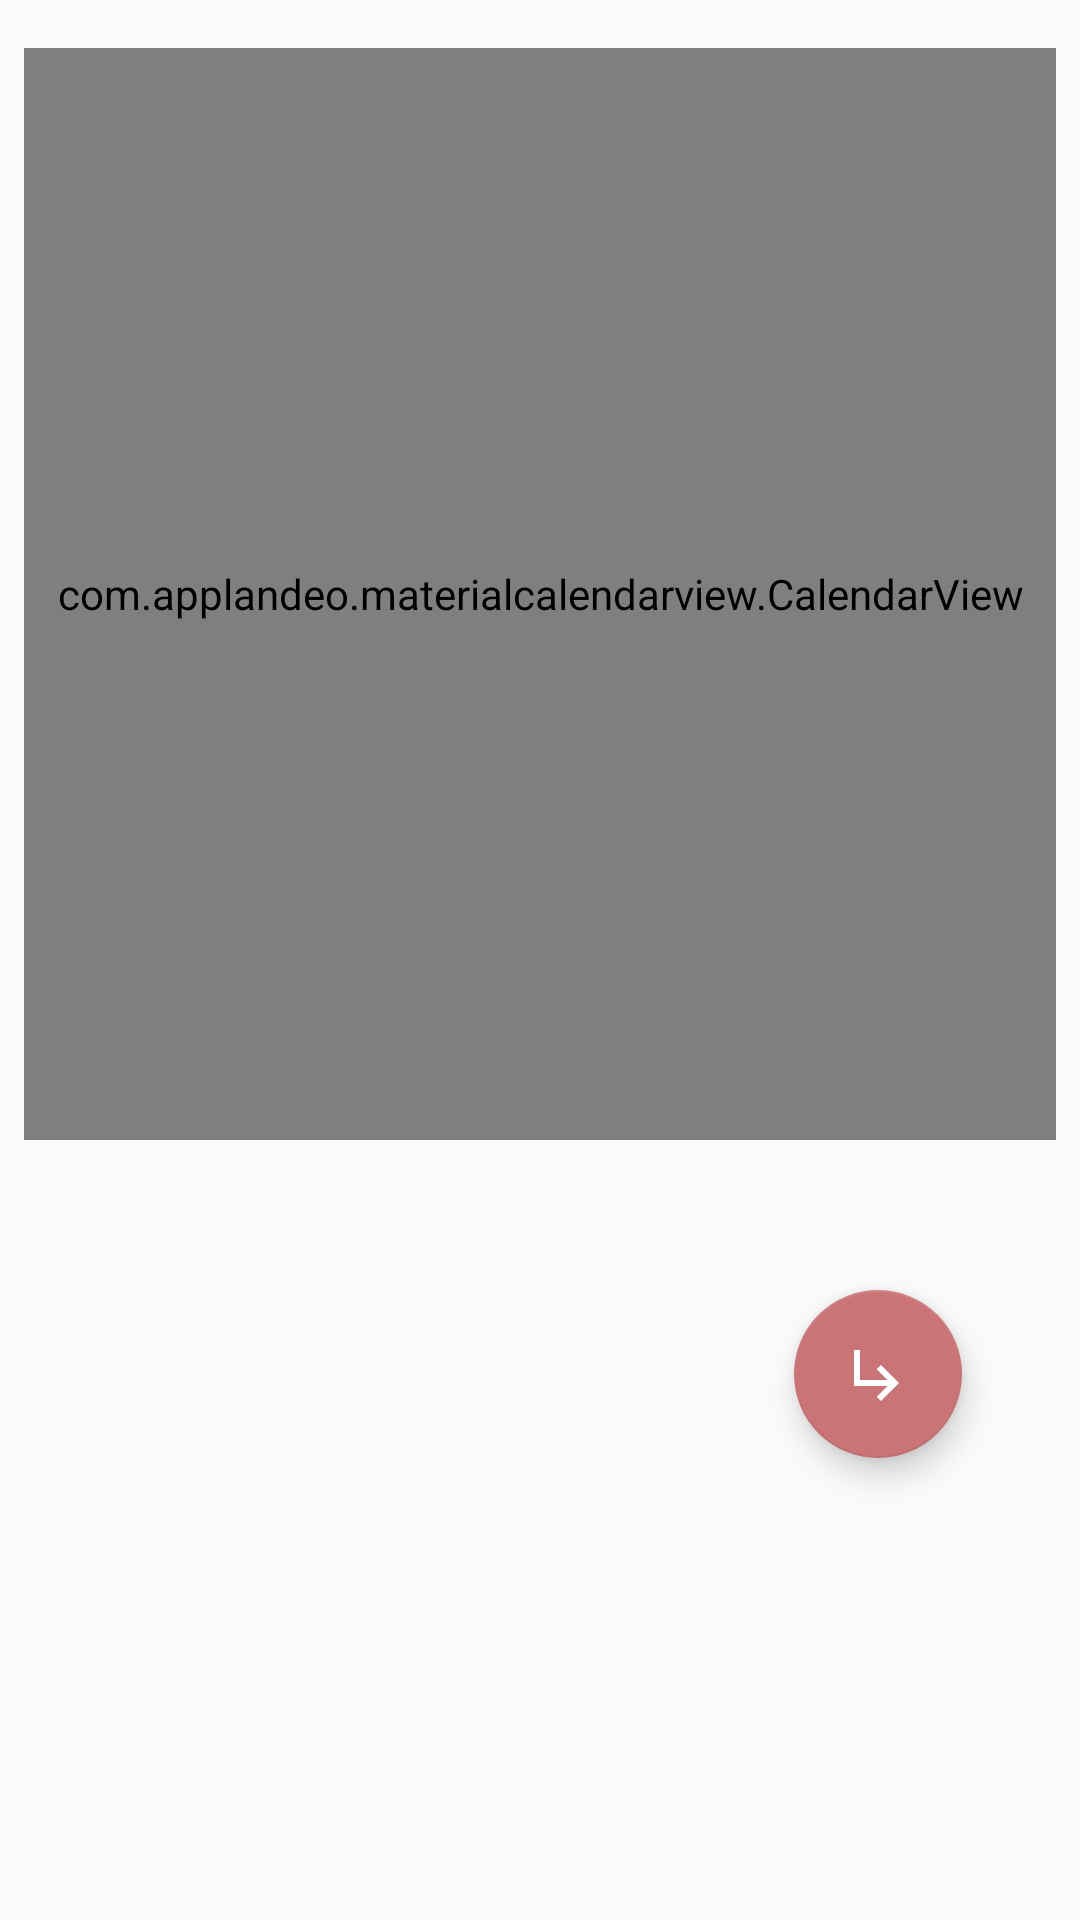

Screen size 1080 x 1920. Icon name, then its center in pixels as (x,y):
next: (878,1374)
